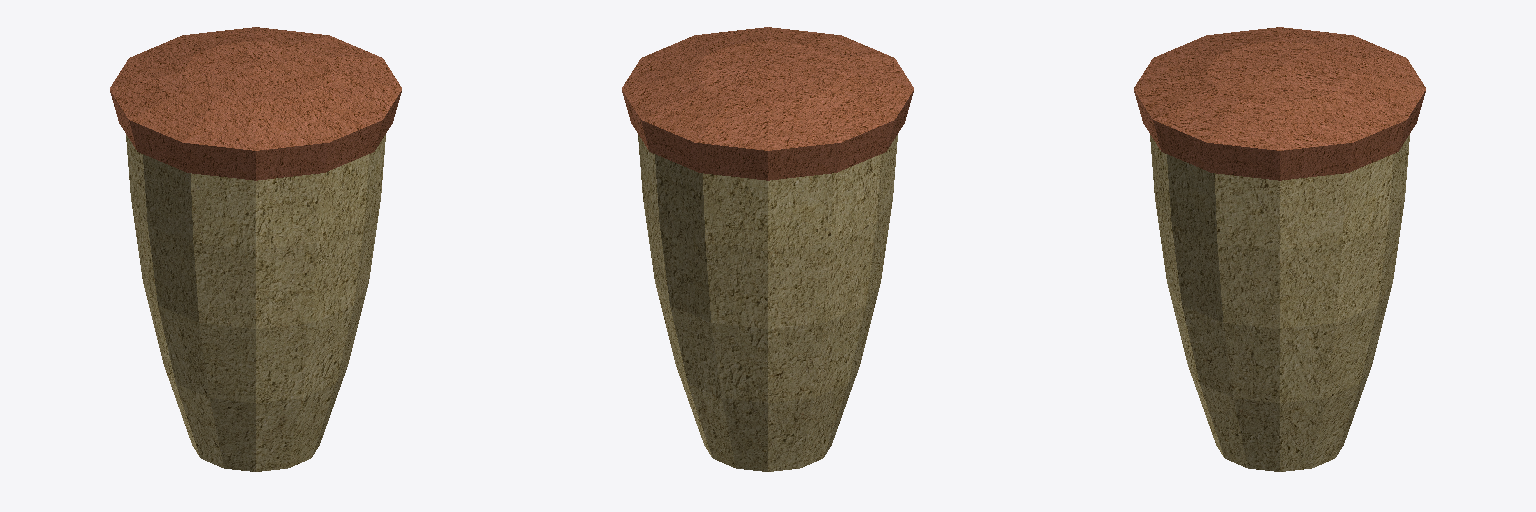
3 renders of one model, left to right at view 1: azimuth 30°, elevation 25°; view 2: azimuth 150°, elevation 25°; view 3: azimuth 270°, elevation 25°, orthographic.
Parts seen in each view (by area): view 1: Pieces_3_2, Pieces_4, Pieces_5, Pieces_3, Pieces_2_2, Pieces_2, Pieces_1_2; view 2: Pieces_4, Pieces_3_2, Pieces_2, Pieces_1, Pieces_1_2, Pieces_3, Pieces_2_2; view 3: Pieces_5, Pieces_2_2, Pieces_3_2, Pieces_1_2, Pieces_4, Pieces_1, Pieces_2, Pieces_3.
Part boxes in pixels (bbox=[...]): Pieces_3_2: bbox=[110, 42, 355, 180]; Pieces_4: bbox=[138, 246, 343, 471]; Pieces_5: bbox=[189, 135, 385, 339]; Pieces_3: bbox=[131, 198, 353, 375]; Pieces_2_2: bbox=[276, 45, 401, 172]; Pieces_2: bbox=[126, 135, 190, 219]; Pieces_1_2: bbox=[166, 27, 350, 58]; Pieces_4: bbox=[679, 250, 885, 471]; Pieces_3_2: bbox=[719, 31, 913, 180]; Pieces_2: bbox=[638, 135, 896, 248]; Pieces_1: bbox=[649, 238, 824, 356]; Pieces_1_2: bbox=[622, 66, 758, 179]; Pieces_3: bbox=[674, 175, 894, 372]; Pieces_2_2: bbox=[631, 27, 802, 74]; Pieces_5: bbox=[1150, 135, 1340, 396]; Pieces_2_2: bbox=[1142, 81, 1320, 180]; Pieces_3_2: bbox=[1134, 27, 1419, 116]; Pieces_1_2: bbox=[1292, 77, 1425, 177]; Pieces_4: bbox=[1178, 319, 1383, 471]; Pieces_1: bbox=[1326, 195, 1404, 389]; Pieces_2: bbox=[1337, 135, 1409, 284]; Pieces_3: bbox=[1163, 257, 1388, 417].
Size of the model in its own units: 7.87 by 11.21 by 7.87.
2 materials, 2 textured.